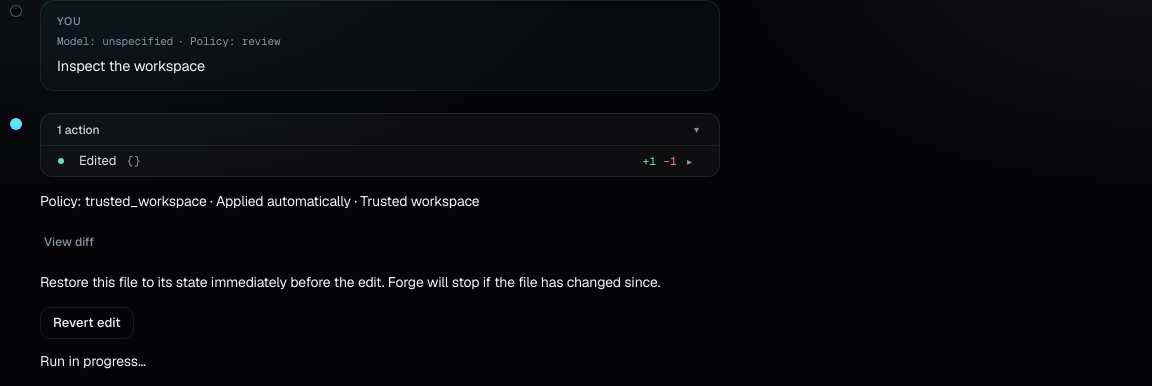
Scenario: guarded recovery explains the hash guard and confirms success without stale action
The image size is (1152, 386).
Expected: the text "Restore this file to its state immediately before the edit. Forge will stop if the file has changed since." is shown, left=40, top=273, right=660, bottom=291
Click the button "Revert edit" at point(87, 323), box left=40, top=307, right=134, bottom=339
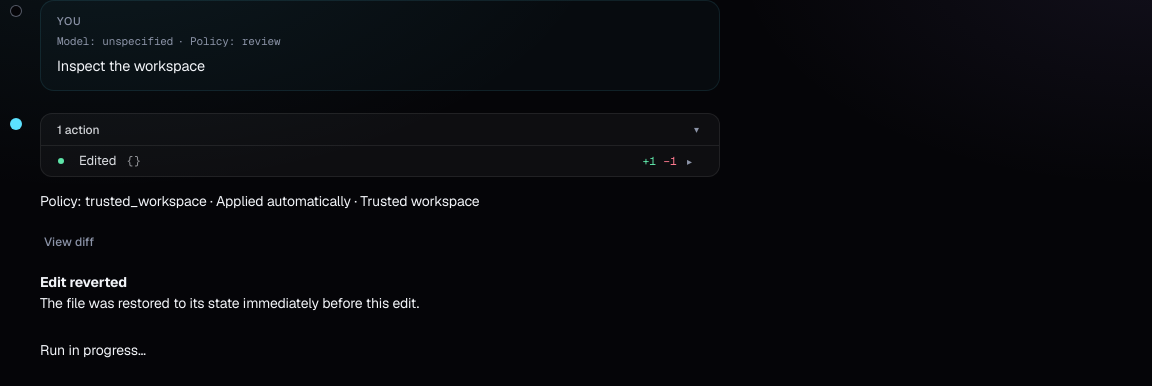
Expected: the text "Edit reverted" is shown, left=40, top=273, right=127, bottom=291
